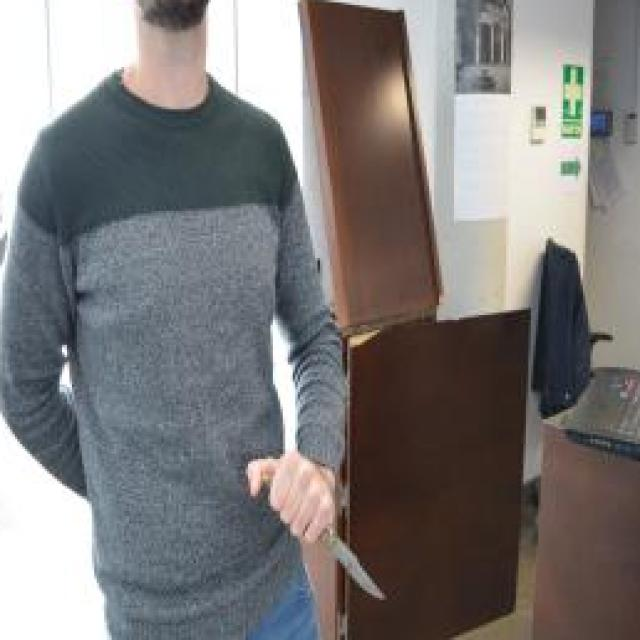knife: (258, 466, 389, 609)
